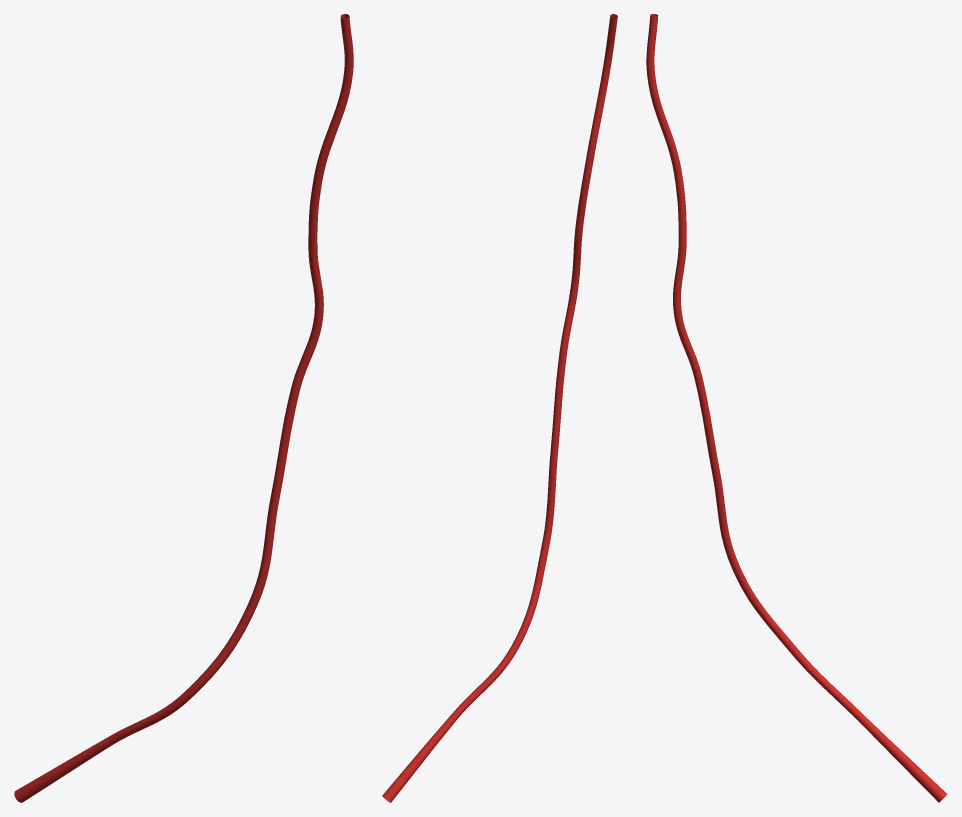
The model's file is circulatorio-inferior-epigastric-vein-l.glb.
3 renders of one model, left to right at view 1: azimuth 90°, elevation 25°; view 2: azimuth 150°, elevation 25°; view 3: azimuth 270°, elevation 25°, orthographic. The views are drawn at different scales.
Visible parts, largest first — view 1: Inferior epigastric vein.l; view 2: Inferior epigastric vein.l; view 3: Inferior epigastric vein.l.
Boxes of the visible parts, x1,y1,x2,y2 form: Inferior epigastric vein.l: (14, 14, 353, 802); Inferior epigastric vein.l: (382, 14, 617, 802); Inferior epigastric vein.l: (646, 14, 947, 802).
Bounding box in the file's own units: 0.0288 × 0.1998 × 0.0734.
